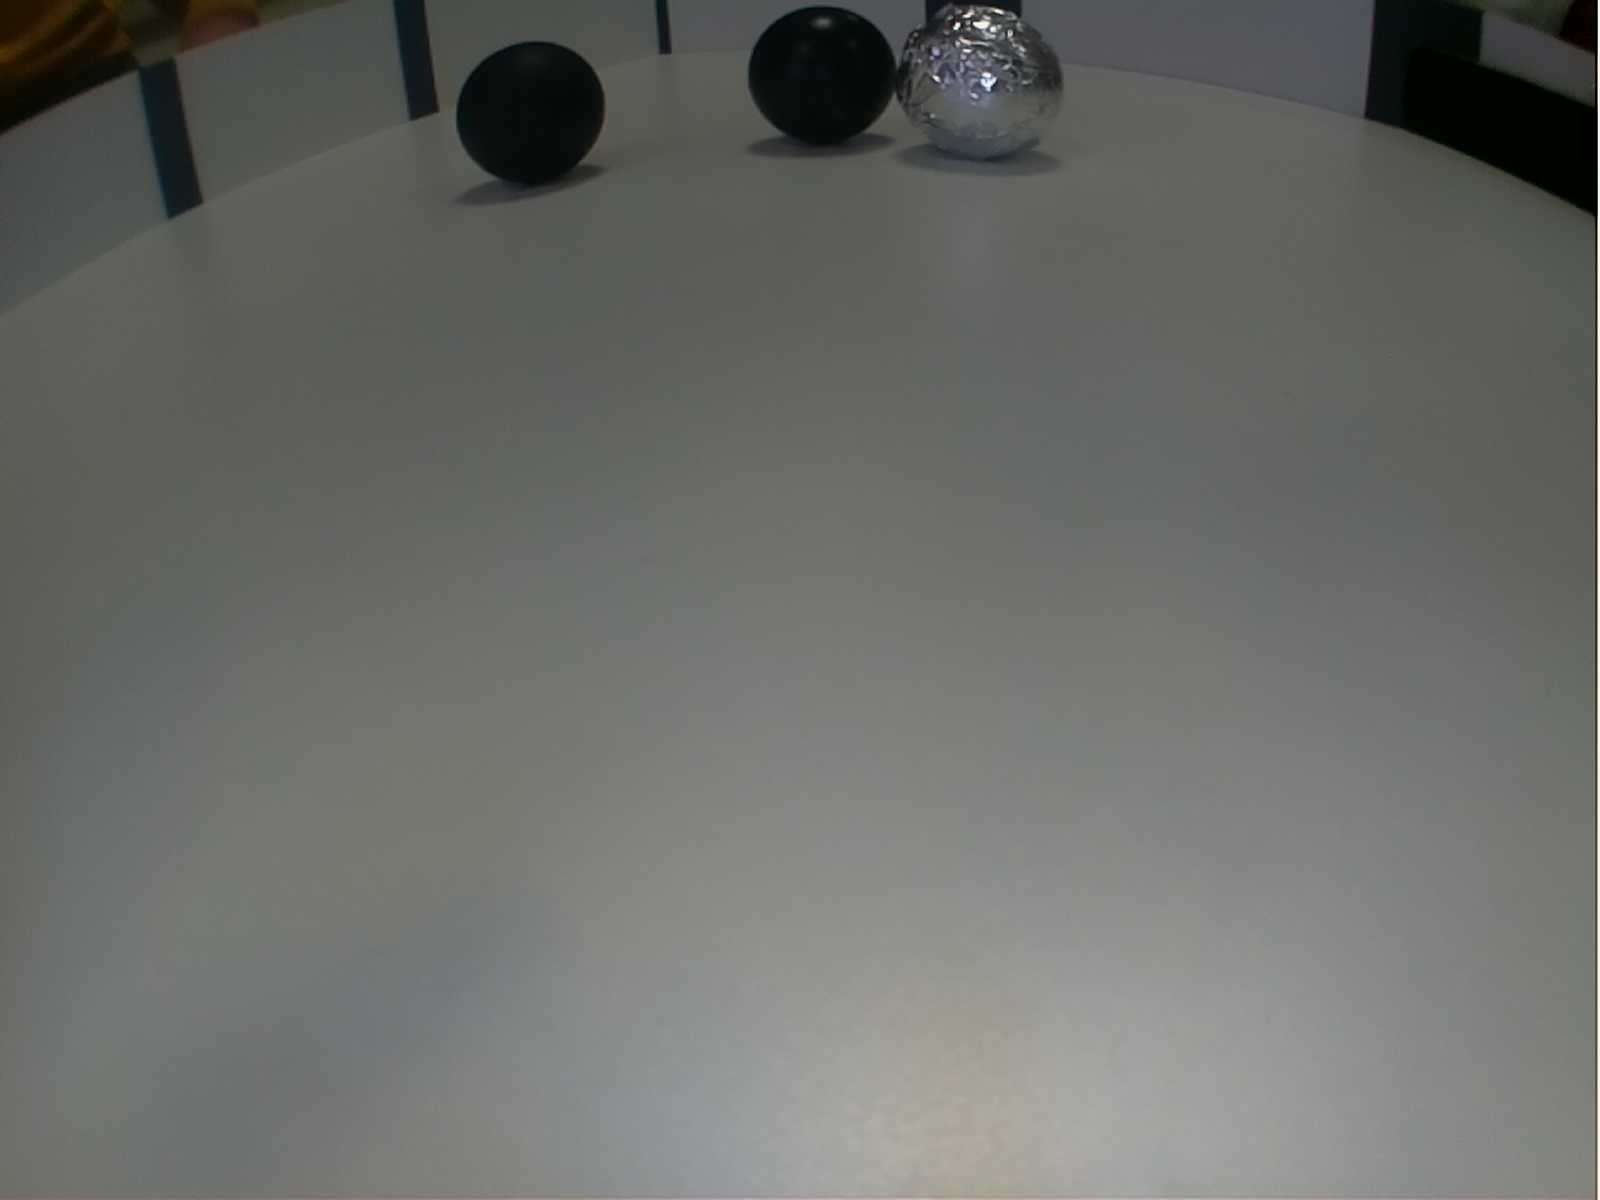bianca: (903, 1, 1066, 169)
nera: (743, 3, 896, 161), (454, 33, 607, 189)
